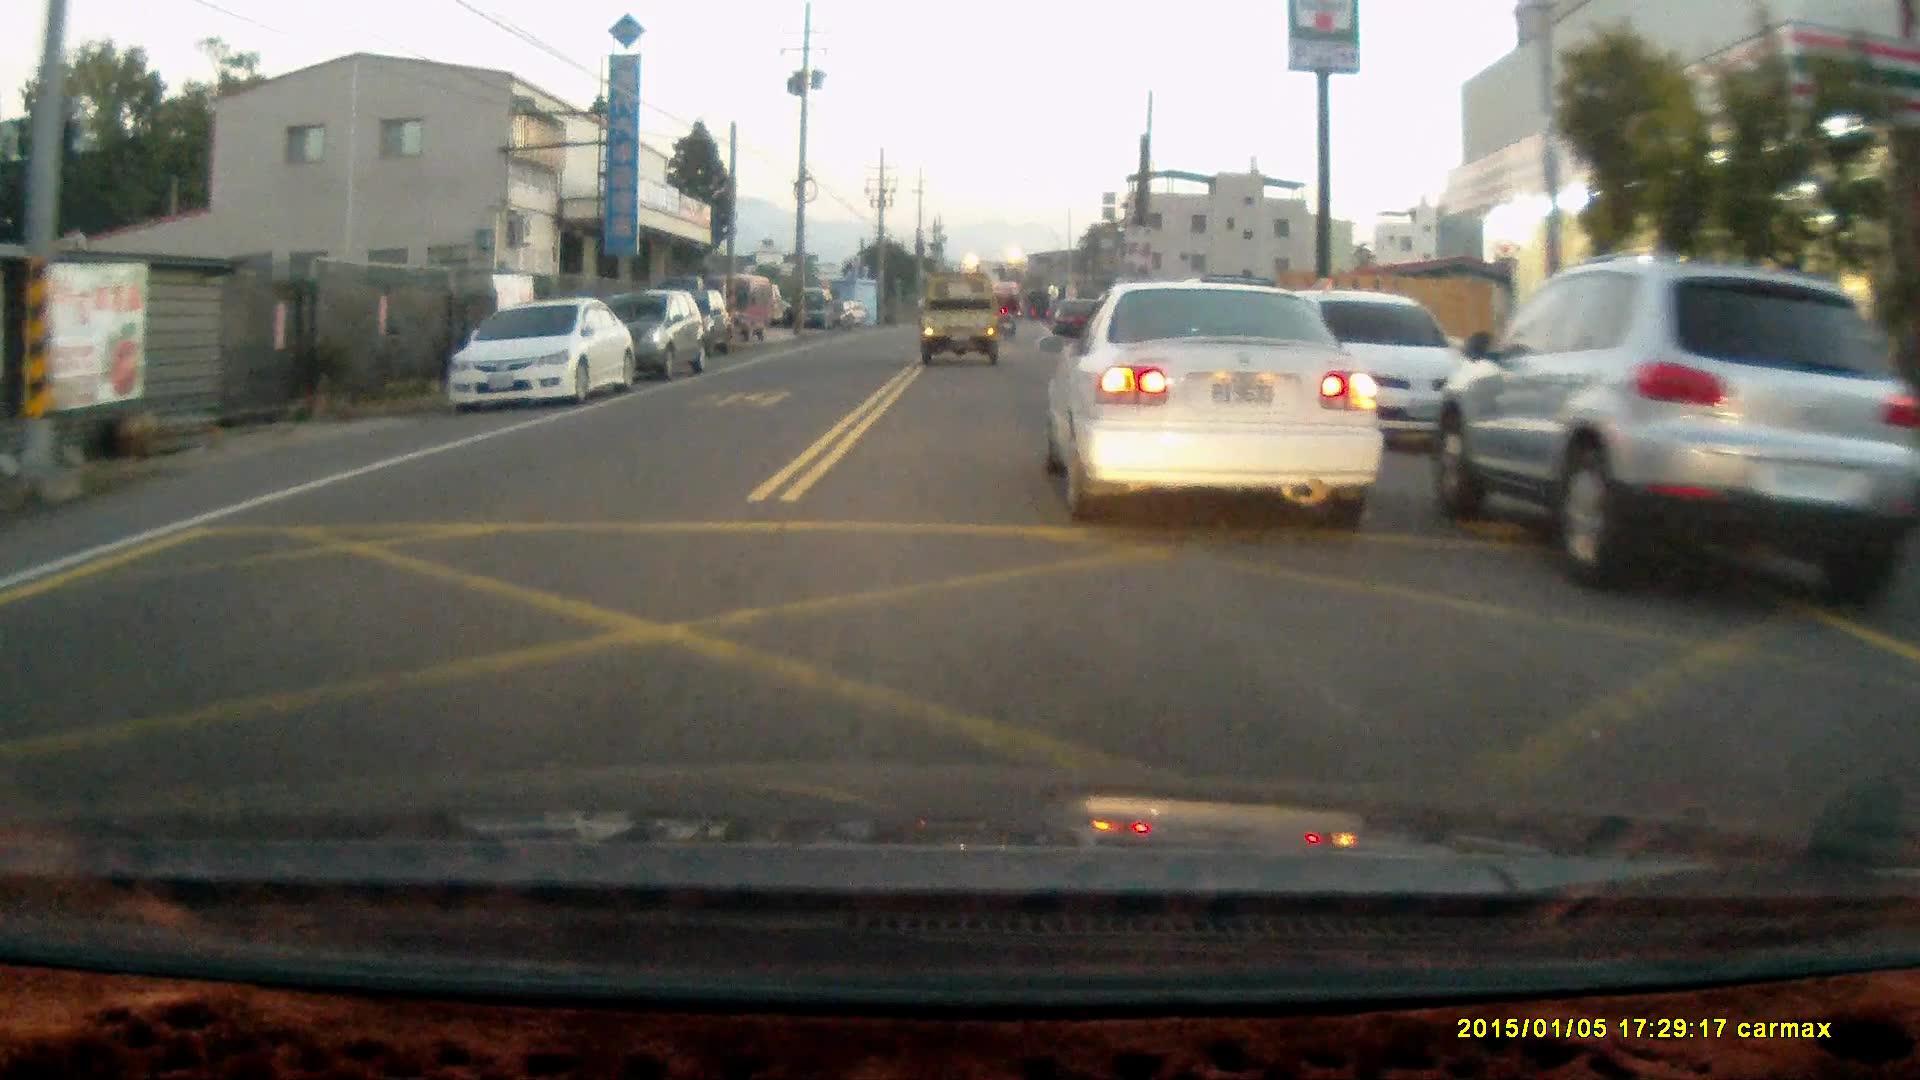rider: (993, 289, 1019, 338)
vehicle: (1431, 263, 1907, 605), (1050, 278, 1384, 520), (1269, 288, 1490, 460), (447, 295, 634, 417), (589, 294, 710, 386), (920, 270, 1007, 367), (633, 281, 736, 361), (715, 272, 780, 341)
